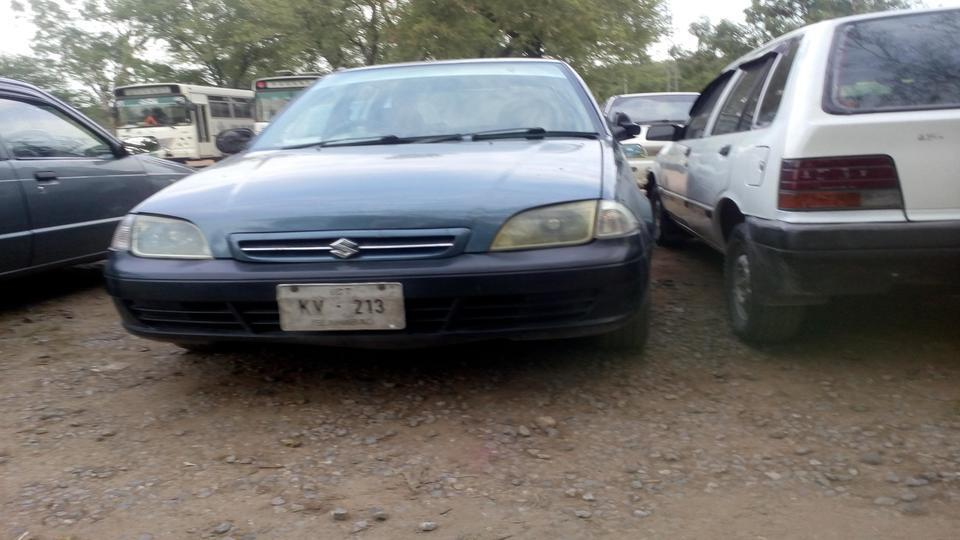NumberPlate: (271, 284, 410, 331)
